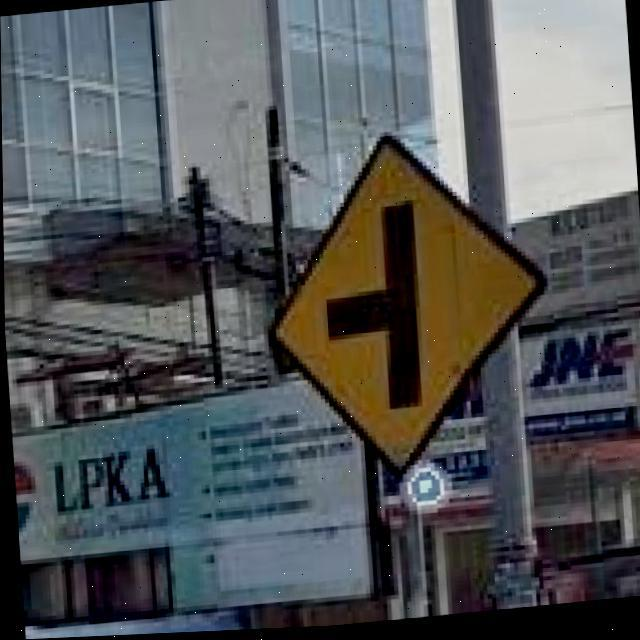Persimpangan 3 Sisi Kiri: (276, 140, 538, 475)
